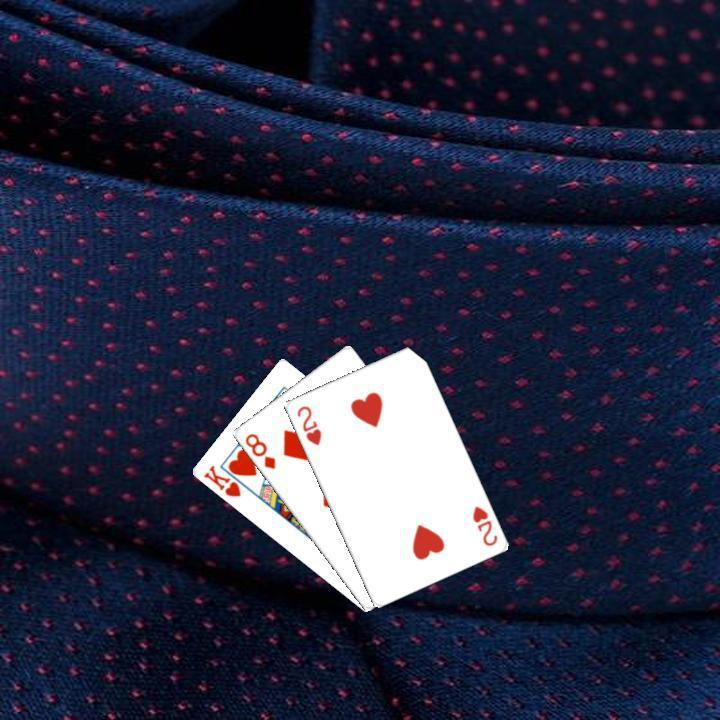2: (468, 501, 499, 548), (292, 401, 323, 447)
8: (240, 429, 277, 471)
K: (199, 461, 243, 499)
